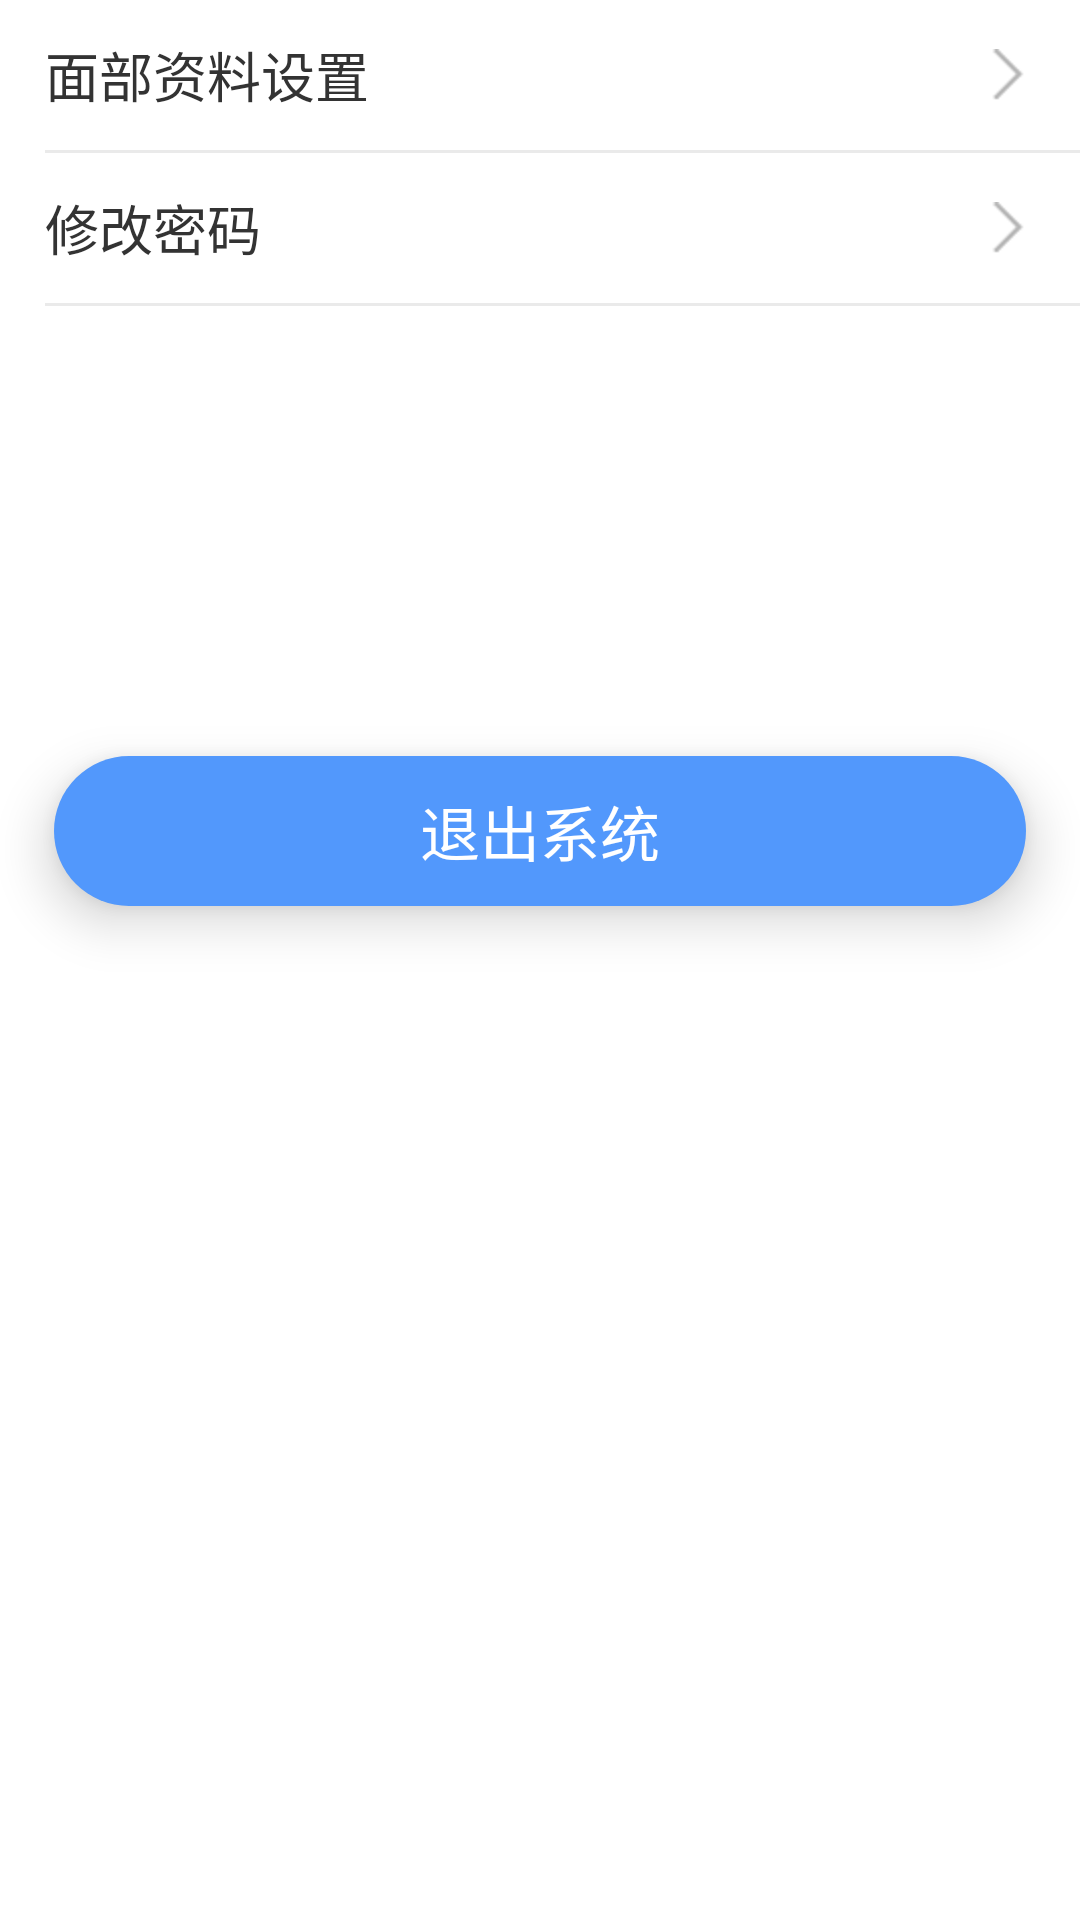

Icons on this 1080w x 1920h Android screen, each with the point to tap as [x,y]:
setting next: [1008,74], [1008,227]
